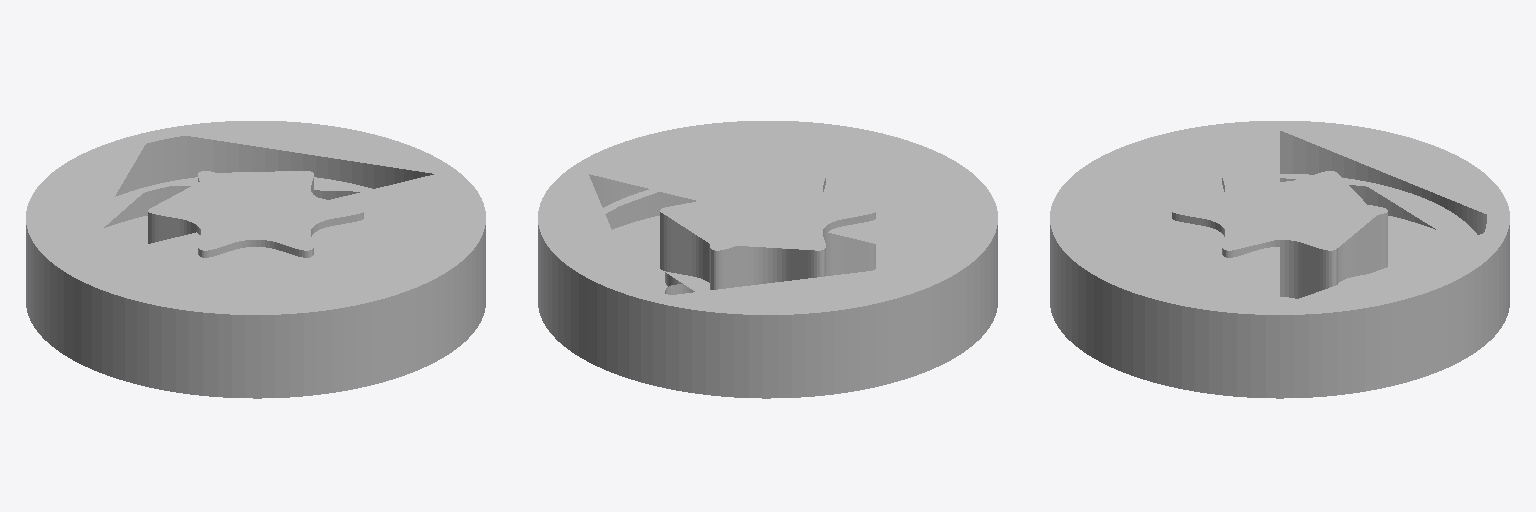
Rendered from LotteryPlate_6hole_star_test.obj.
3 renders of one model, left to right at view 1: azimuth 30°, elevation 25°; view 2: azimuth 150°, elevation 25°; view 3: azimuth 270°, elevation 25°, orthographic.
Visible parts, largest first — view 1: 円柱_円柱.003, 円_円.004; view 2: 円柱_円柱.003, 円_円.004; view 3: 円柱_円柱.003, 円_円.004.
Part boxes in pixels (bbox=[...]): 円柱_円柱.003: bbox=[26, 121, 485, 398]; 円_円.004: bbox=[148, 171, 363, 257]; 円柱_円柱.003: bbox=[538, 121, 997, 398]; 円_円.004: bbox=[660, 171, 875, 291]; 円柱_円柱.003: bbox=[1050, 121, 1509, 398]; 円_円.004: bbox=[1172, 171, 1387, 298].
Bounding box in the file's own units: 1 × 0.2171 × 1.